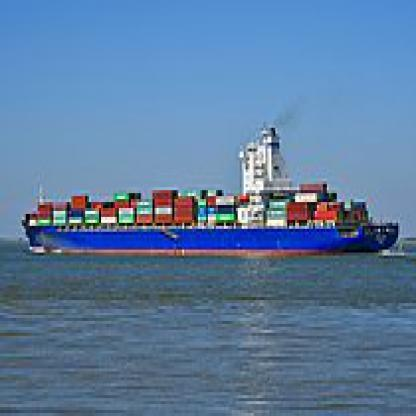Container Ship: (20, 121, 399, 257)
